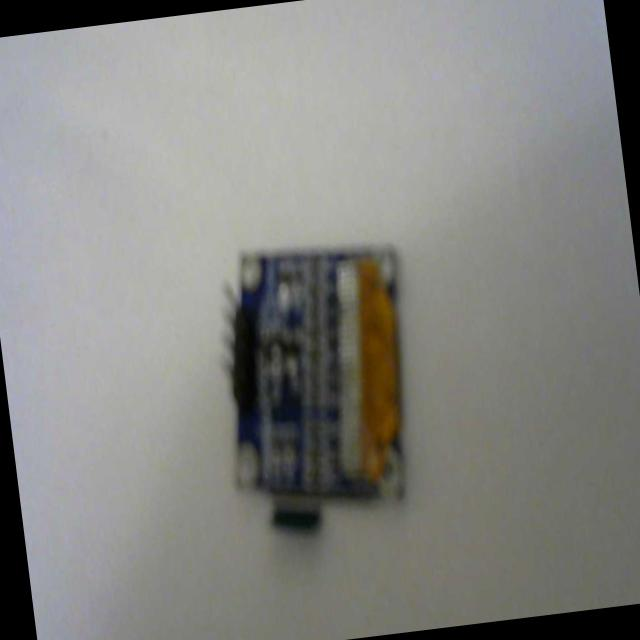oled: (199, 222, 429, 546)
